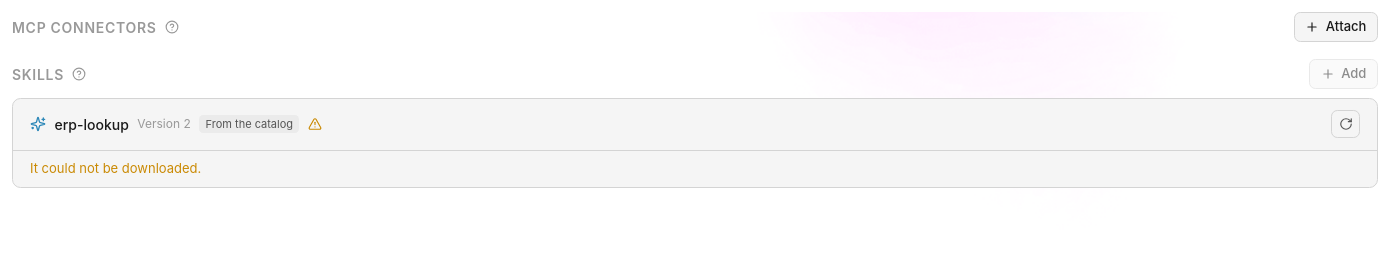
it: the Skills section — a catalog skill’s actions › offers Try again when the pinned version is not here, and shows that row’s own failure
This screenshot has width=1390, height=271.
Click the button named "Download erp-lookup again" at x=1346, y=124, box [1331,110,1360,138]
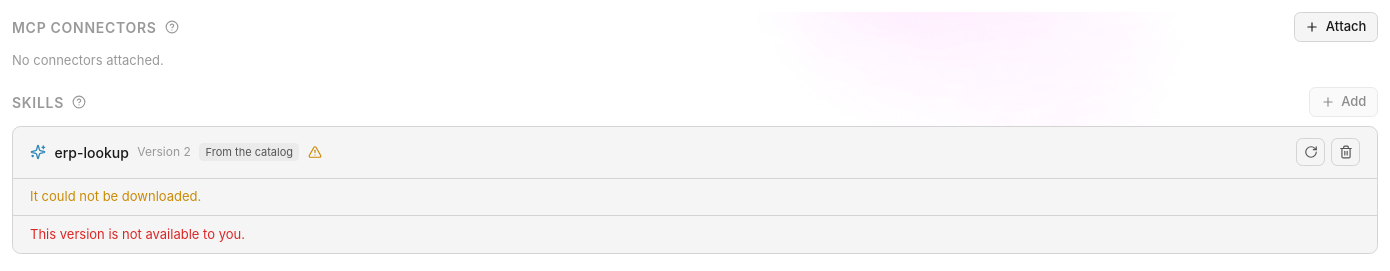
Now the message reads "This version is not available to you.", box [30,226,245,242]
